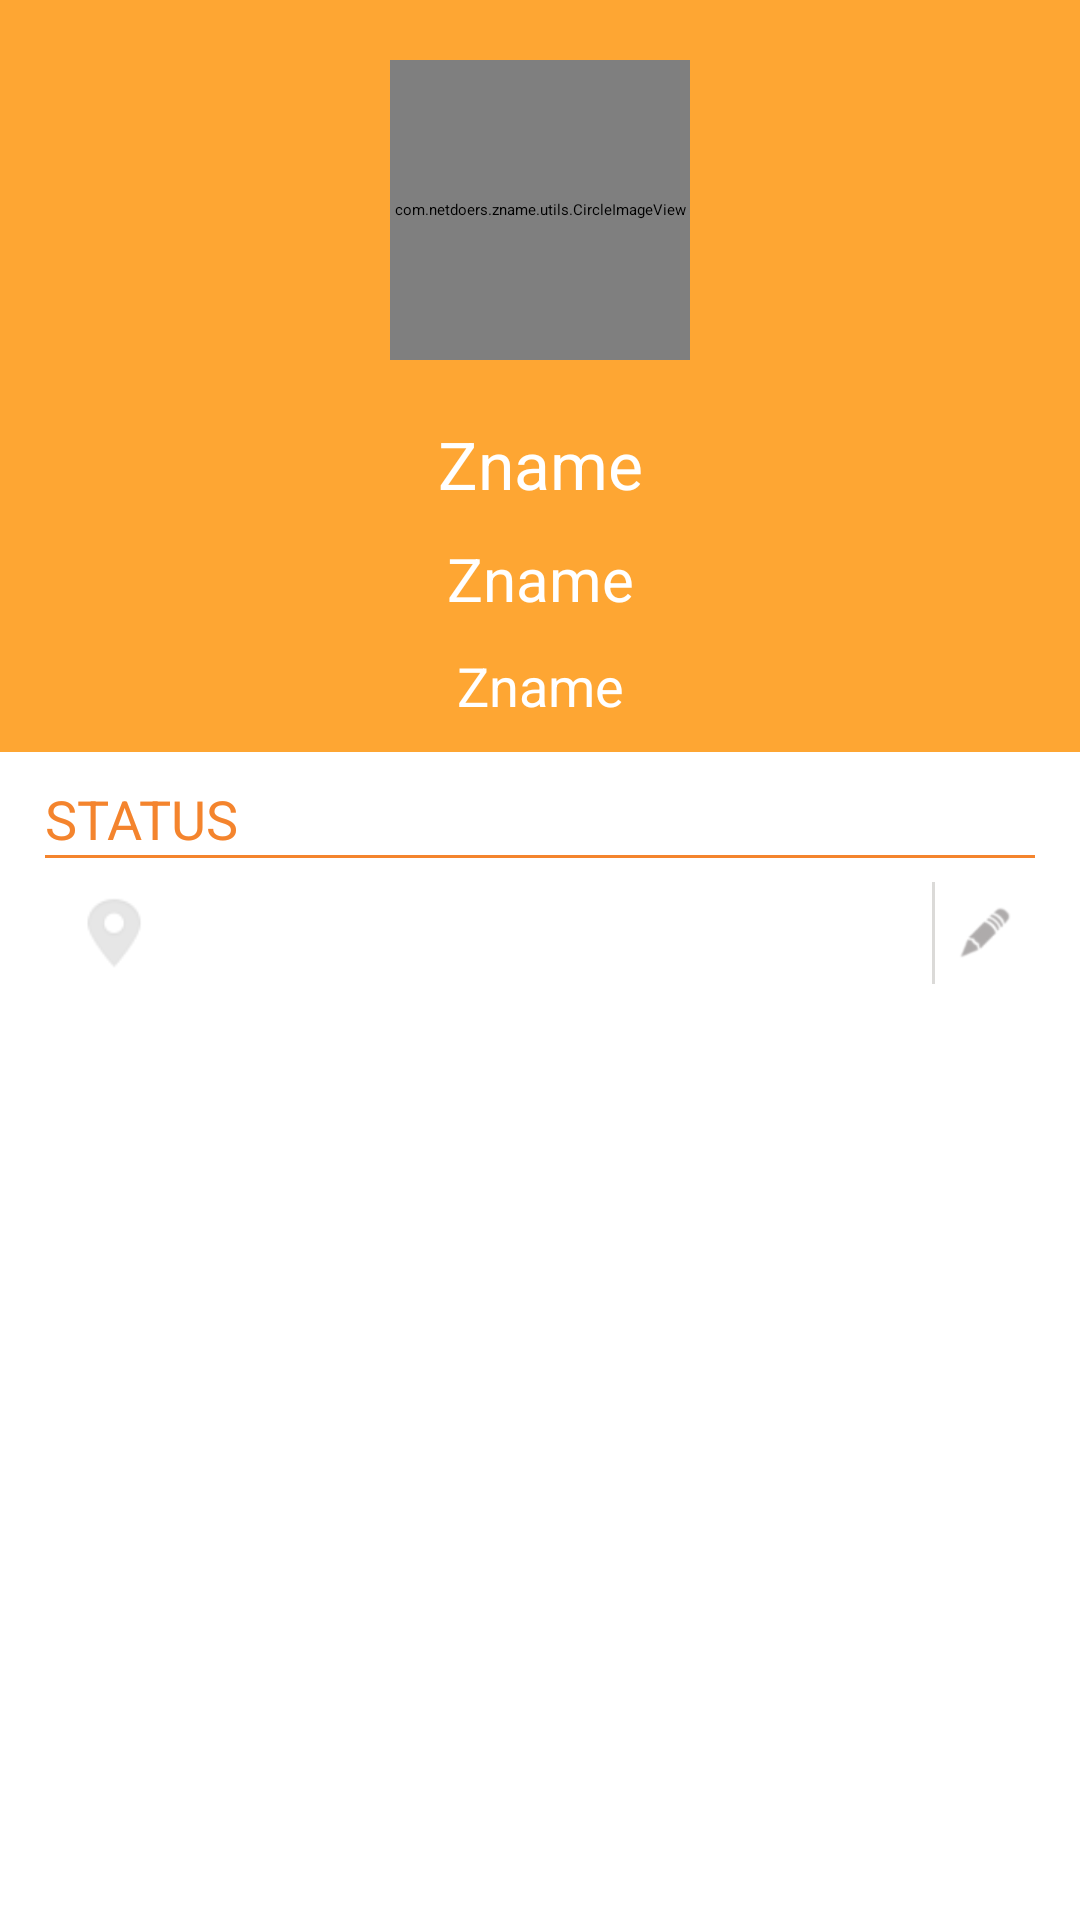

Icons on this 1080px×1920px Android screen, each with its box as BBox(x1, y1, x2, y2):
profile edit: BBox(961, 908, 1009, 957)
